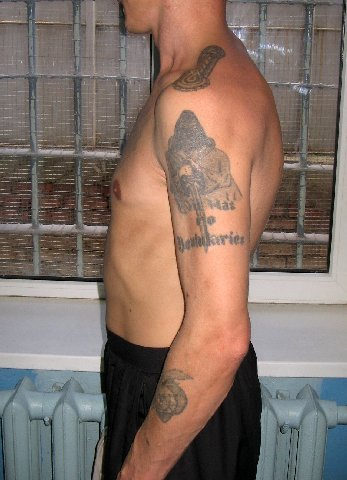tatu3_bukva: (175, 220, 251, 254)
